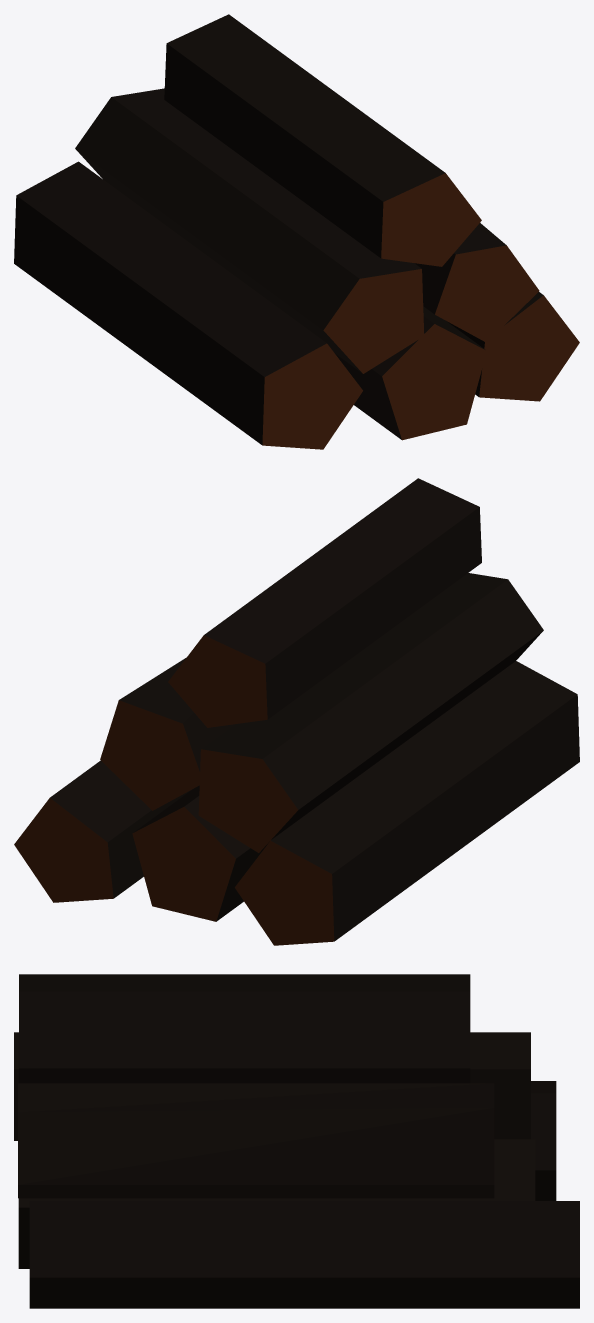
Rendered from Piles_of_wood_3.fbx.
3 renders of one model, top to bottom at view 1: azimuth 30°, elevation 25°; view 2: azimuth 150°, elevation 25°; view 3: azimuth 270°, elevation 25°, orthographic. The views are drawn at different scales.
Visible parts, largest first — view 1: Piles_of_wood_3; view 2: Piles_of_wood_3; view 3: Piles_of_wood_3.
Boxes of the visible parts, x1=… form: Piles_of_wood_3: x1=14, y1=14, x2=579, y2=449; Piles_of_wood_3: x1=14, y1=478, x2=579, y2=945; Piles_of_wood_3: x1=14, y1=974, x2=579, y2=1308.
Bounding box in the file's own units: 138 × 108 × 208.
